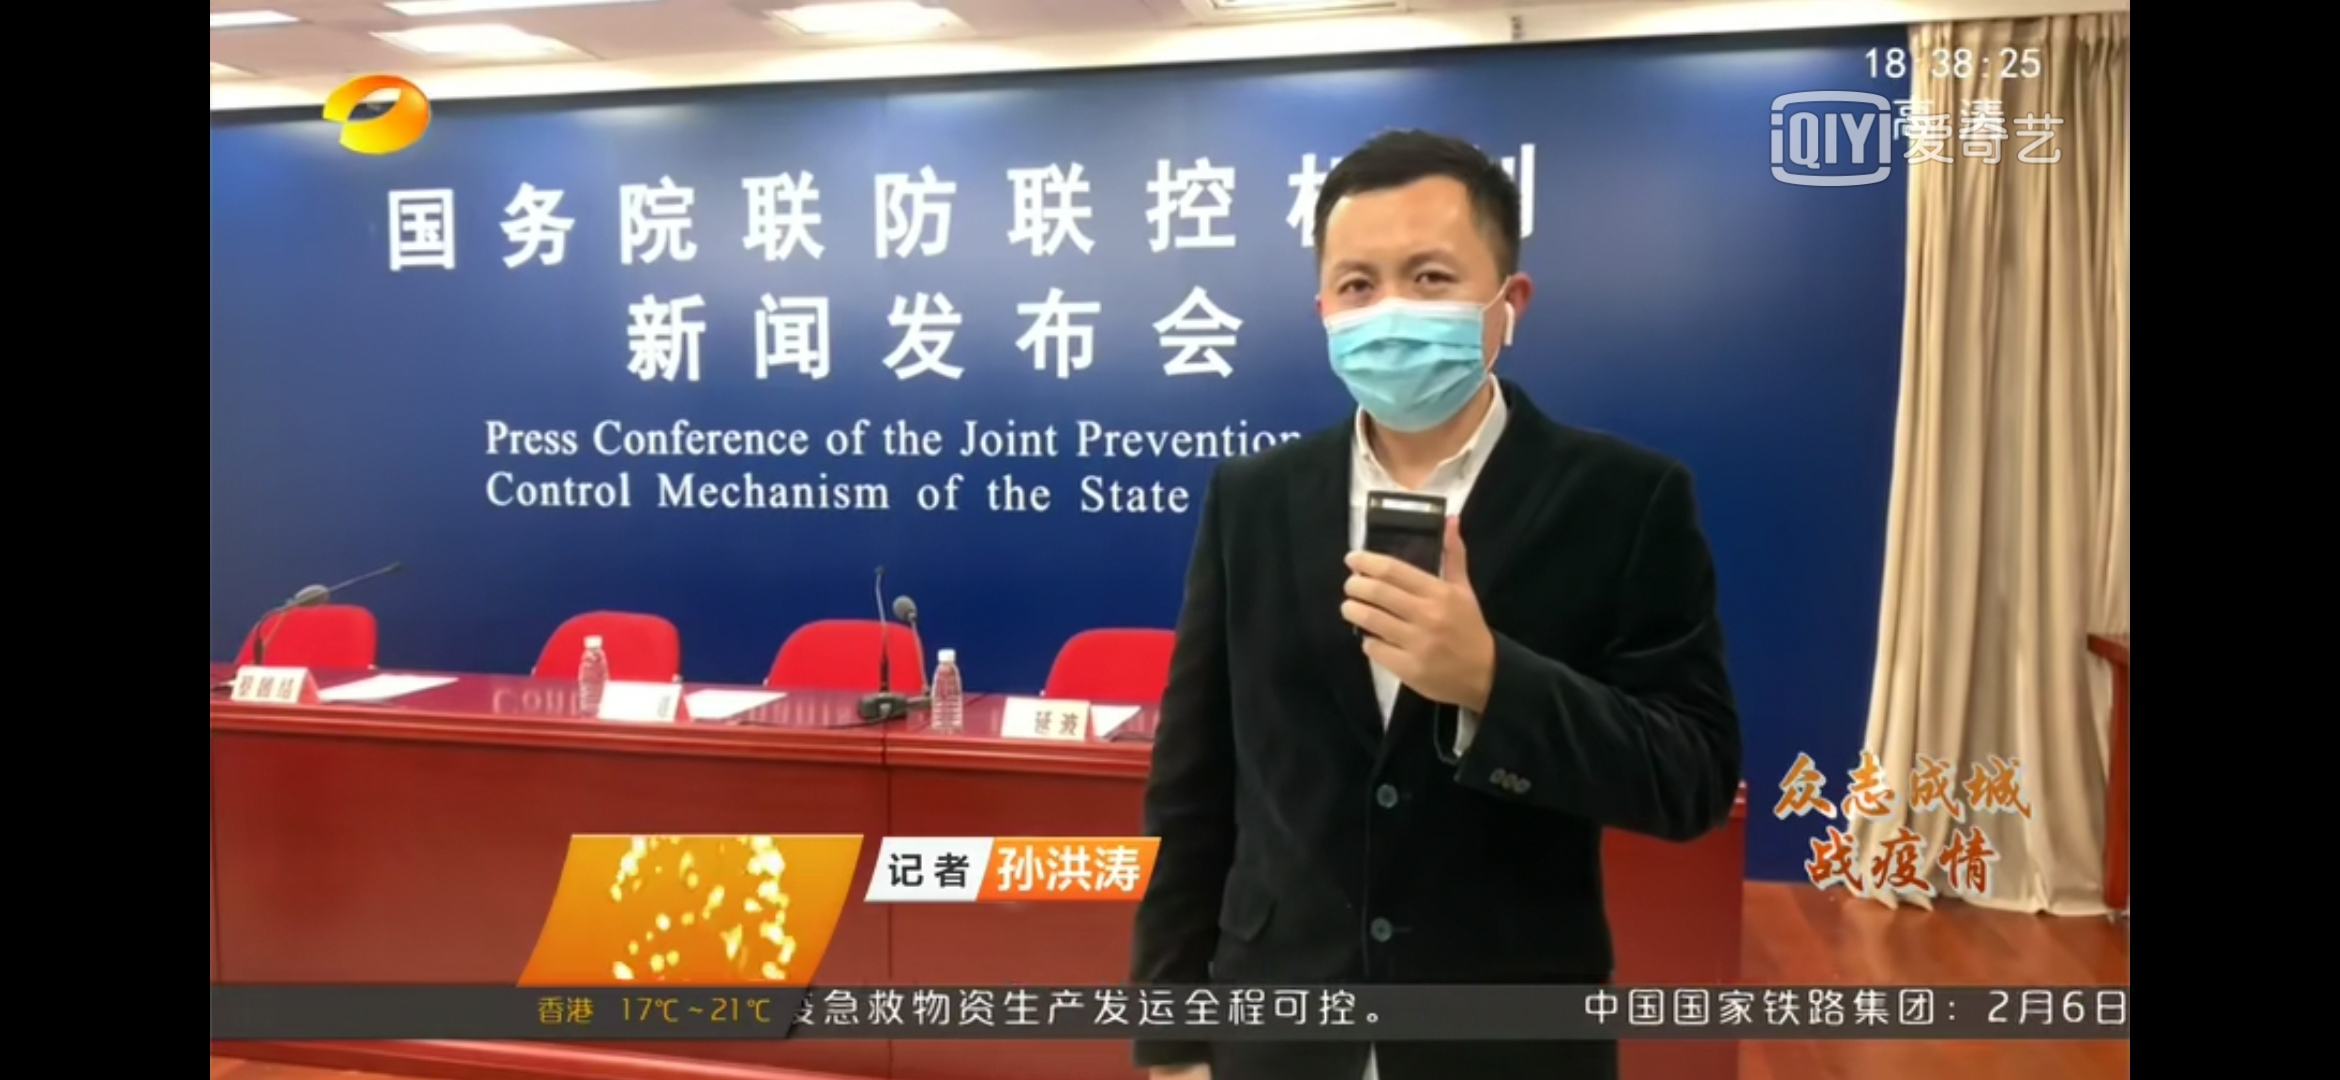correctlyWear: (1304, 240, 1509, 433)
